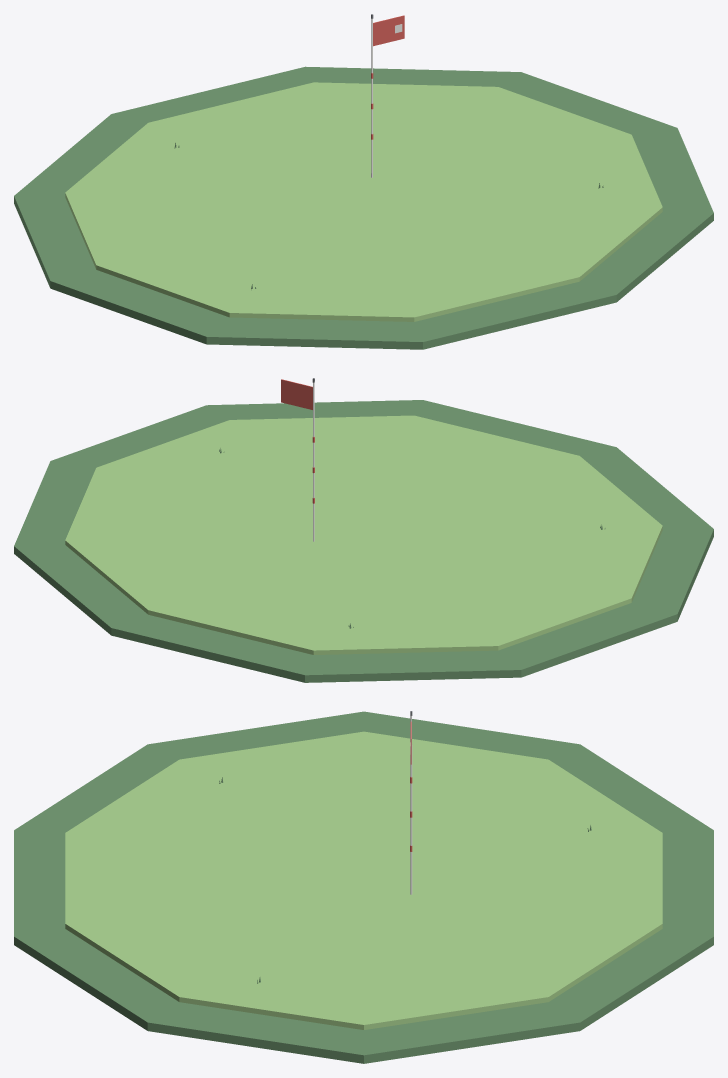
File: golf-course-and-clubhouse-putting-green-with-flag-ccb8f801__33465.glb
3 views of the same model, one above another, from view 1: azimuth 30°, elevation 25°; view 2: azimuth 150°, elevation 25°; view 3: azimuth 270°, elevation 25° (orthographic). The views are drawn at different scales.
Visible parts, largest first — view 1: putting-green-with-flag, flagstick/red; view 2: putting-green-with-flag, flagstick/red; view 3: putting-green-with-flag.
Boxes of the visible parts, x1=… form: putting-green-with-flag: x1=14, y1=66, x2=713, y2=349; flagstick/red: x1=371, y1=15, x2=404, y2=139; putting-green-with-flag: x1=14, y1=400, x2=713, y2=682; flagstick/red: x1=281, y1=379, x2=314, y2=503; putting-green-with-flag: x1=14, y1=711, x2=713, y2=1063.
Size of the model in its own units: 8.61 by 2.3 by 7.41.
